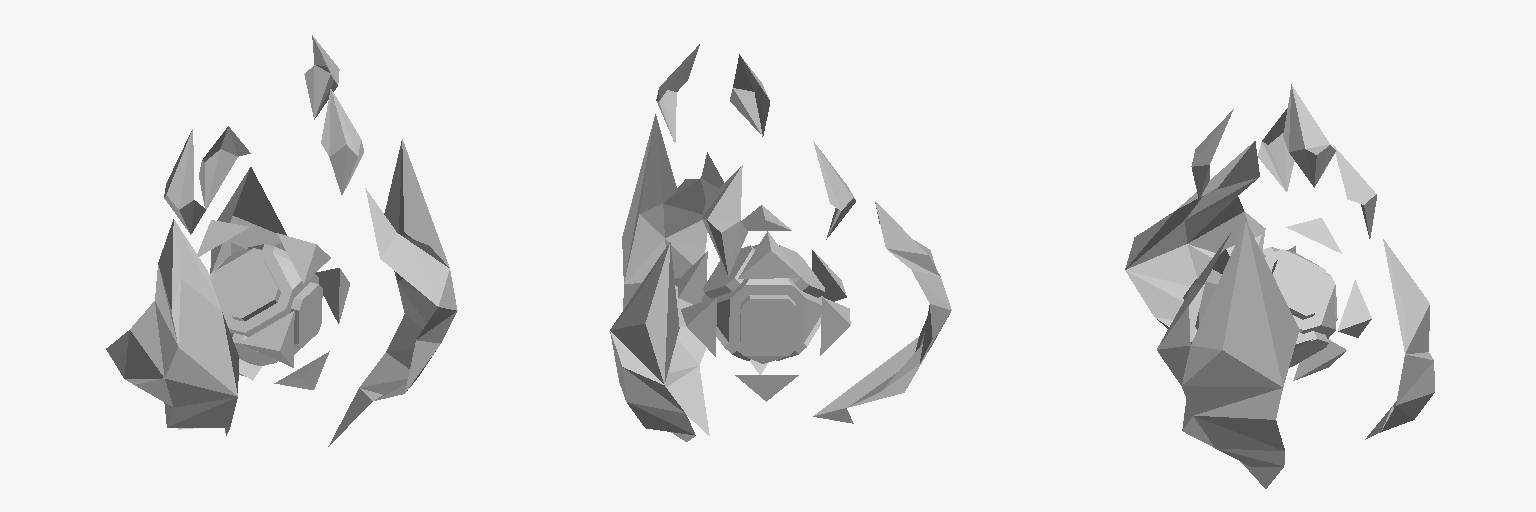
Rendered from soul_7.obj.
3 renders of one model, left to right at view 1: azimuth 30°, elevation 25°; view 2: azimuth 150°, elevation 25°; view 3: azimuth 270°, elevation 25°, orthographic.
Visible parts, largest first — view 1: soul7; view 2: soul7; view 3: soul7.
Part boxes in pixels (x1,y1,x2,y2): soul7: (106,35,457,446); soul7: (610,44,951,441); soul7: (1125,84,1434,488).
Size of the model in its own units: 1.2 by 1.47 by 1.02.